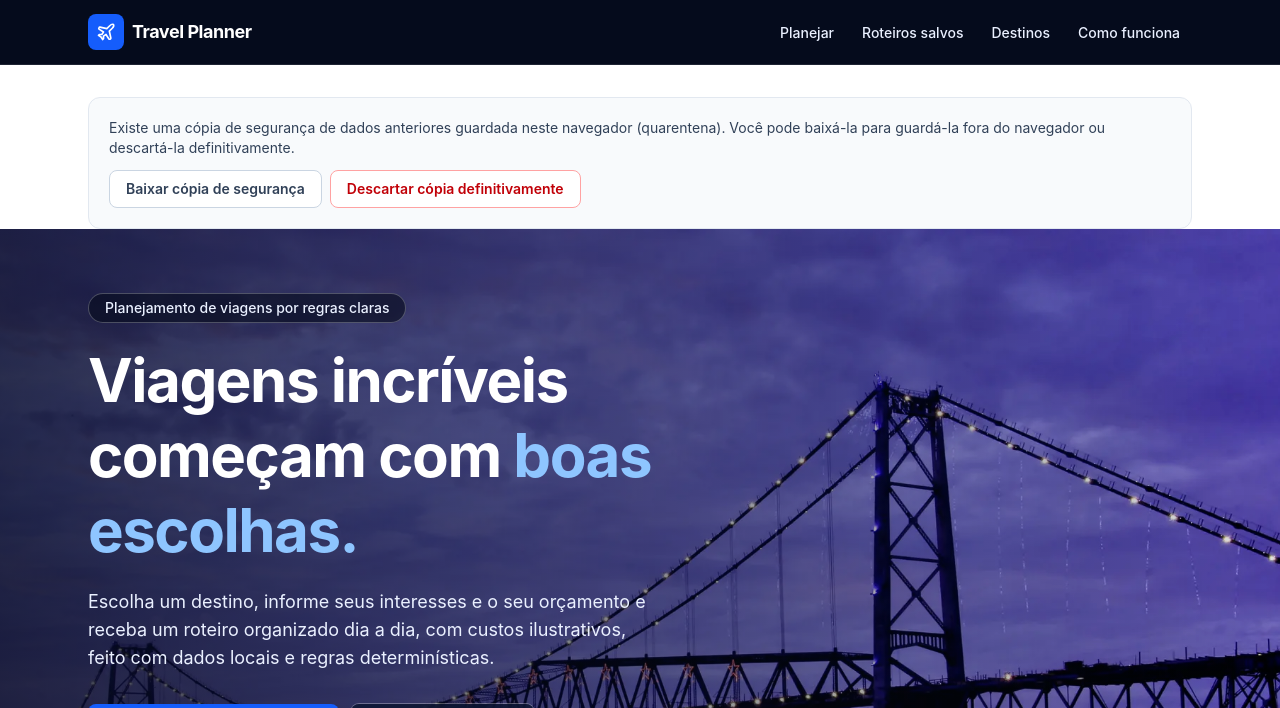
Scenario: AUD-01 — descarte seguro da quarentena › quarentena indisponível na confirmação: erro explícito, sem falso sucesso e sem alterações
The image size is (1280, 708).
Click the button "Descartar cópia definitivamente" at point(455, 189), box [330, 170, 581, 208]
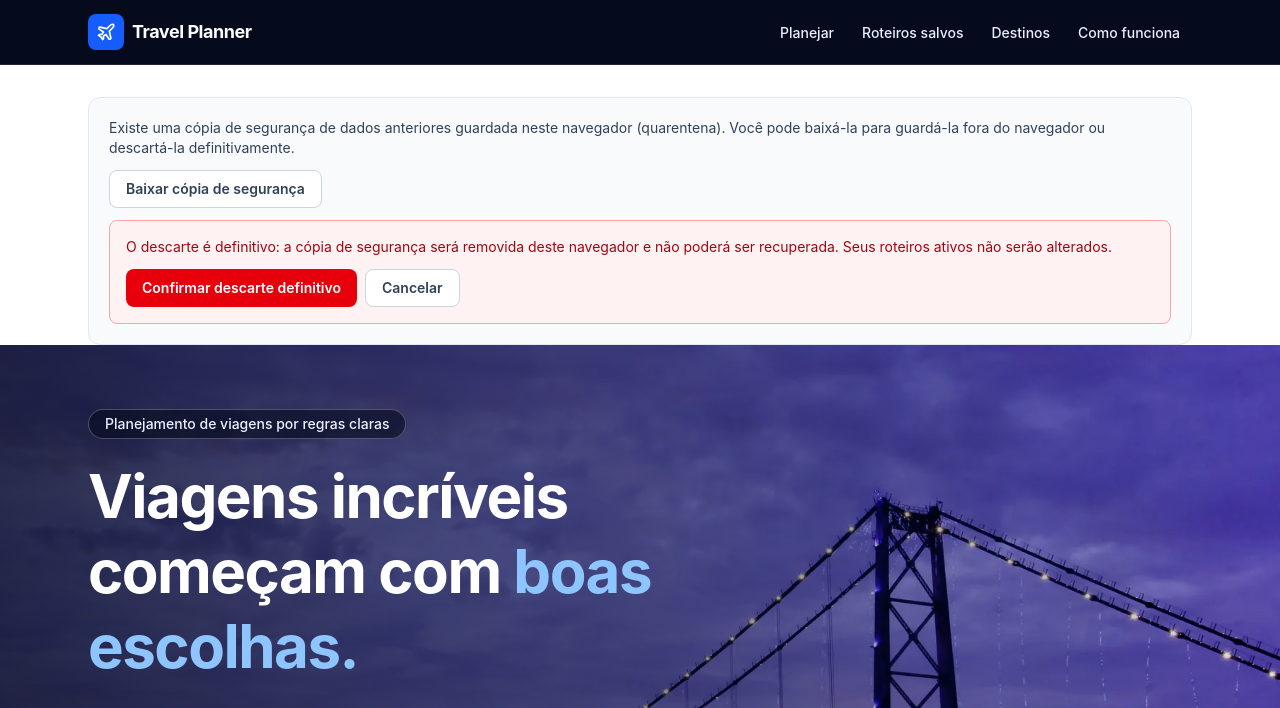
Check: the text "O descarte é definitivo" is shown, box [126, 238, 1112, 255]
Click the button "Confirmar descarte definitivo" at point(242, 288), box [126, 269, 357, 307]
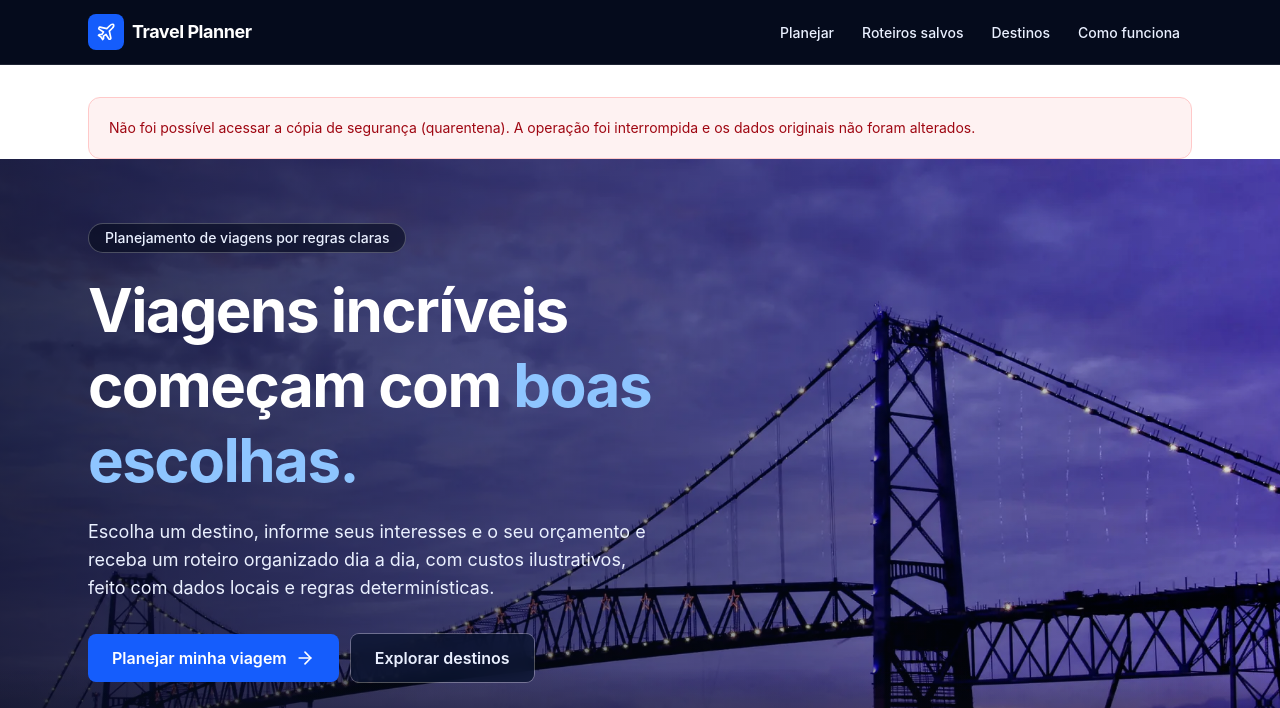
Check: the text "Não foi possível acessar a cópia de segurança" is shown, box [109, 119, 975, 136]
